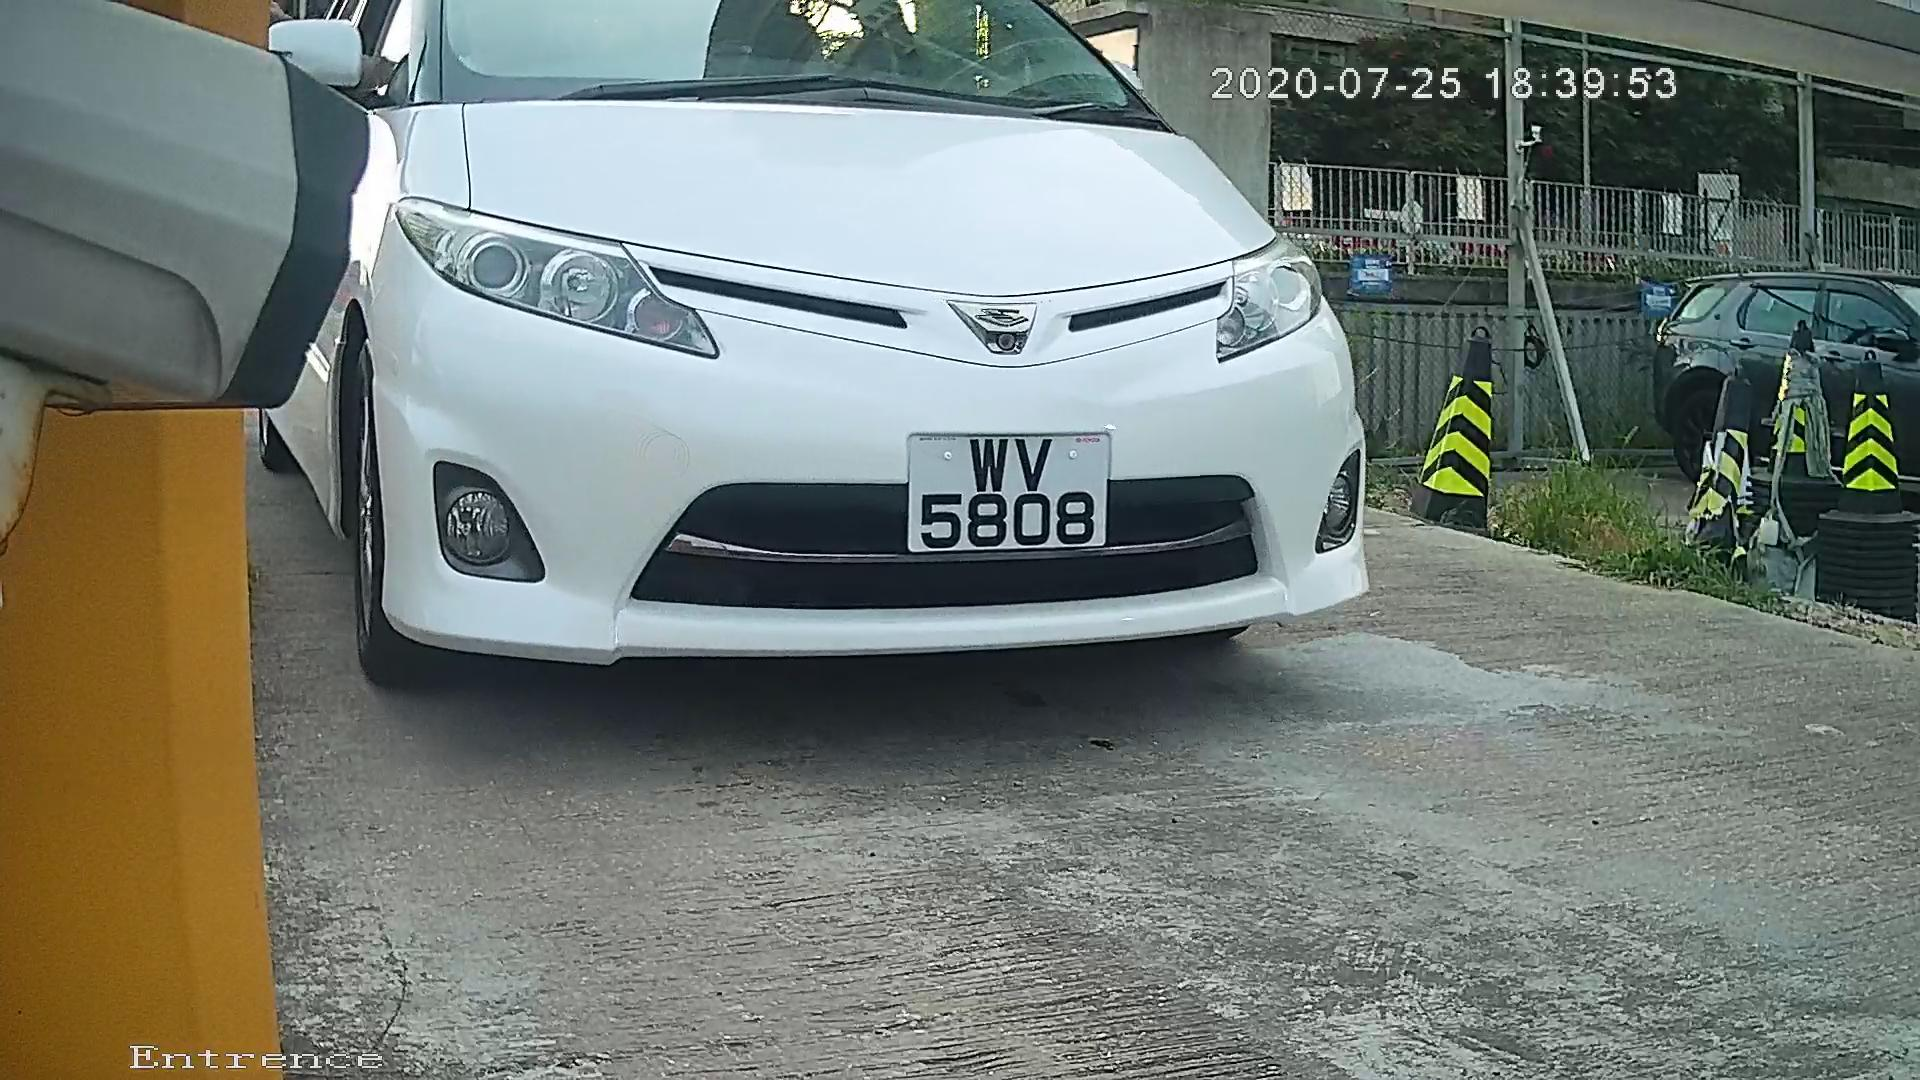License Plate: (883, 415, 1123, 565)
